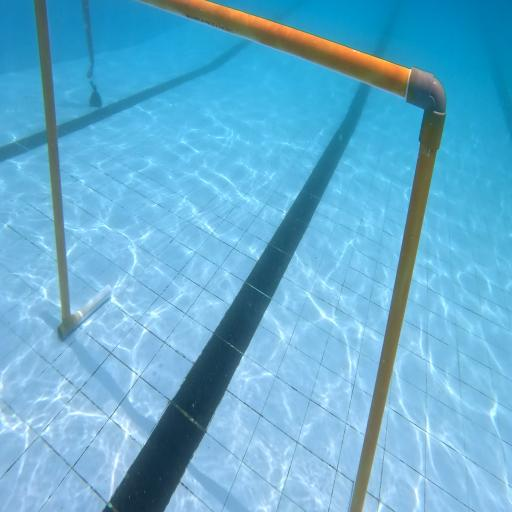gate: (34, 0, 445, 512)
